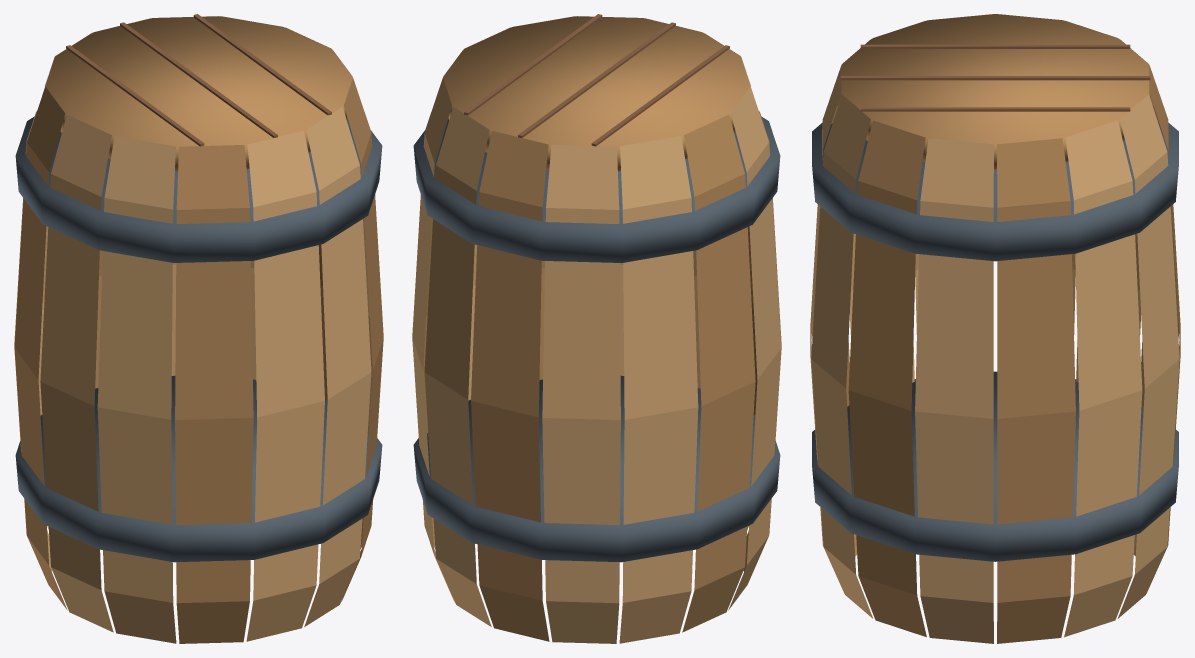
The model's file is prop_barrel.glb.
The picture shows the model from 3 angles, left to right: view 1: azimuth 30°, elevation 25°; view 2: azimuth 150°, elevation 25°; view 3: azimuth 270°, elevation 25°; orthographic projection.
Parts seen in each view (by area): view 1: structure.007; view 2: structure.007; view 3: structure.007.
Boxes of the visible parts, bbox=[...] form: structure.007: bbox=[14, 14, 383, 643]; structure.007: bbox=[412, 14, 781, 643]; structure.007: bbox=[810, 14, 1180, 643].
Bounding box in the file's own units: 0.6 × 0.9 × 0.6.
